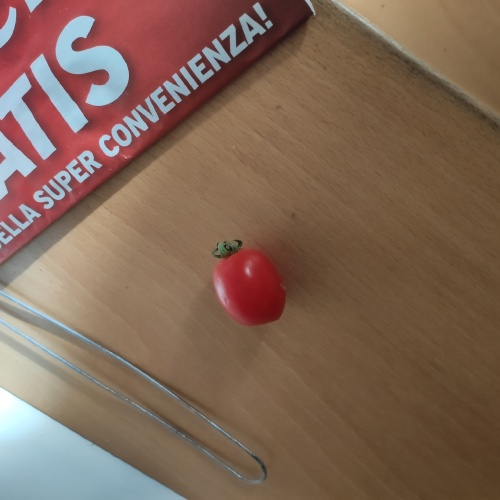pomodoro: (199, 237, 307, 334)
